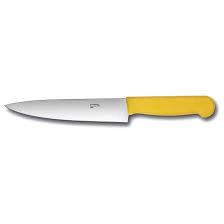Knife: (3, 94, 215, 123)
